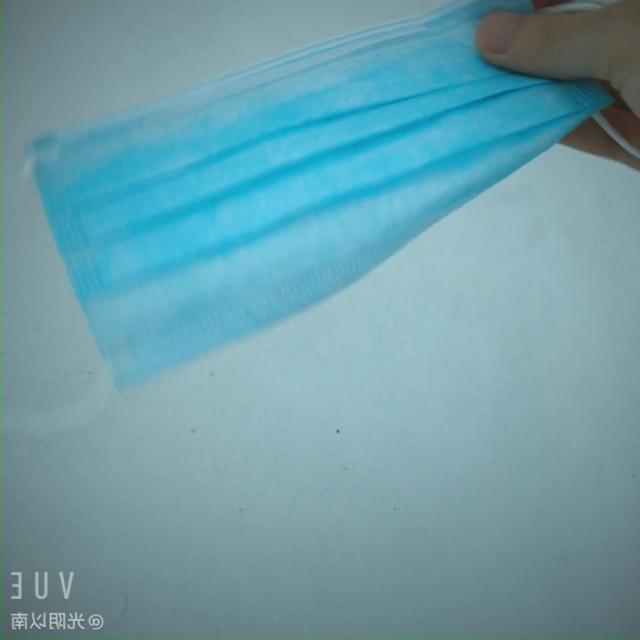face mask: (29, 32, 602, 338)
